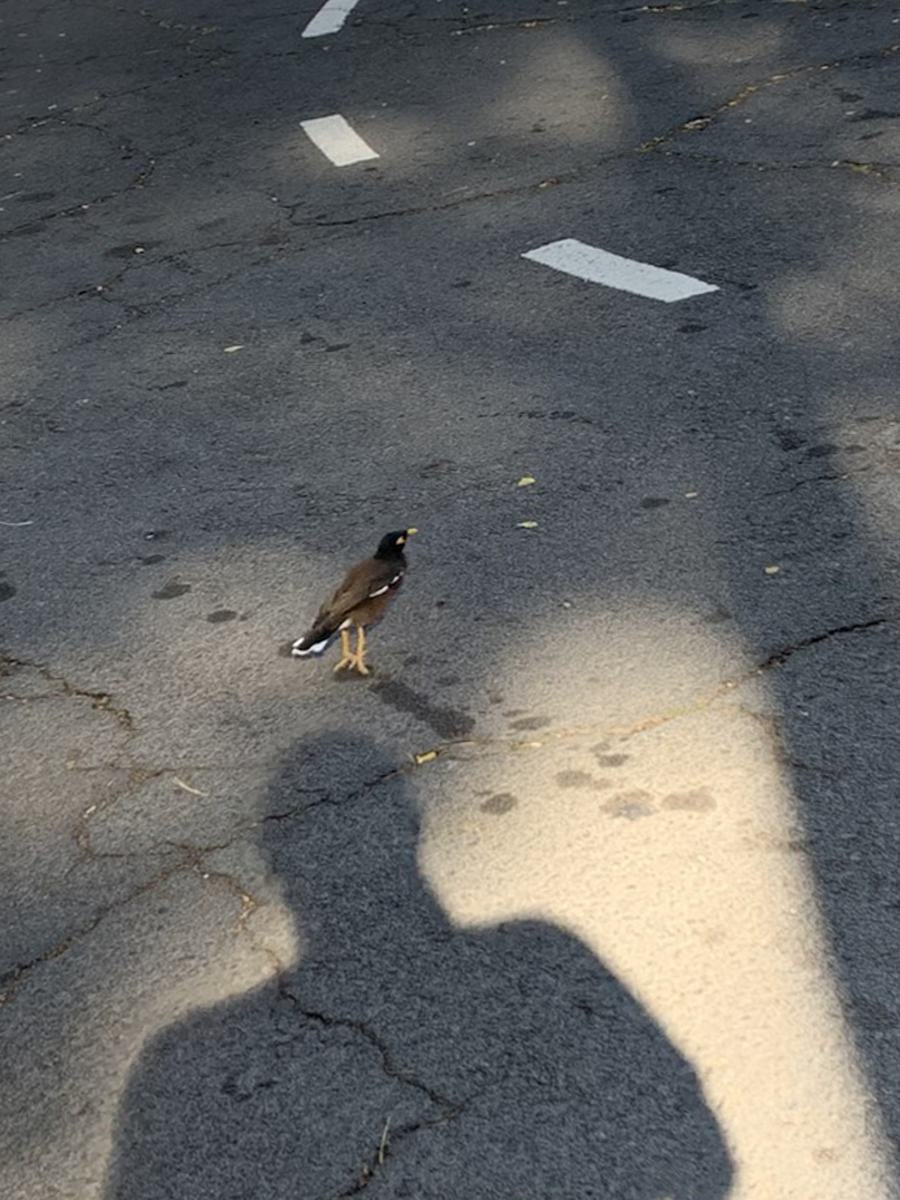myna: (272, 522, 437, 688)
